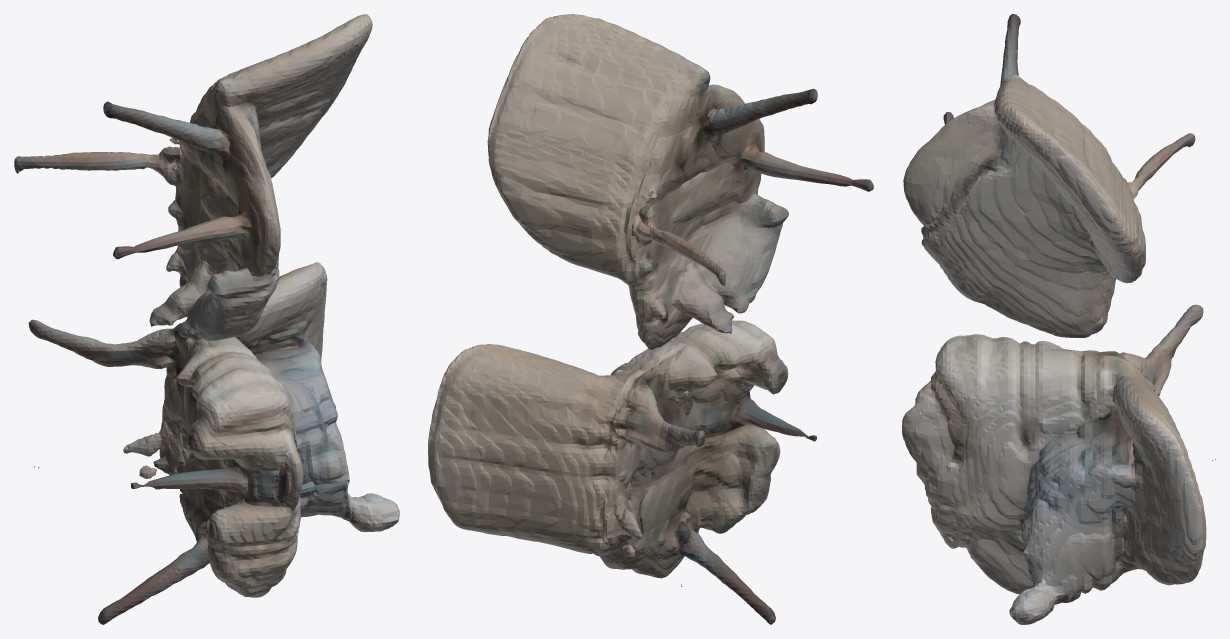
File: oren-dinning-chair-set-of-2-beige.glb
The picture shows the model from 3 angles, left to right: view 1: azimuth 30°, elevation 25°; view 2: azimuth 150°, elevation 25°; view 3: azimuth 270°, elevation 25°; orthographic projection. The views are drawn at different scales.
Parts seen in each view (by area): view 1: orient; view 2: orient; view 3: orient.
Part boxes in pixels (left/top/right/bottom): orient: left=14, top=14, right=399, bottom=624; orient: left=428, top=14, right=873, bottom=624; orient: left=902, top=14, right=1215, bottom=624.
Size of the model in its own units: 0.57 by 0.92 by 0.4848.
